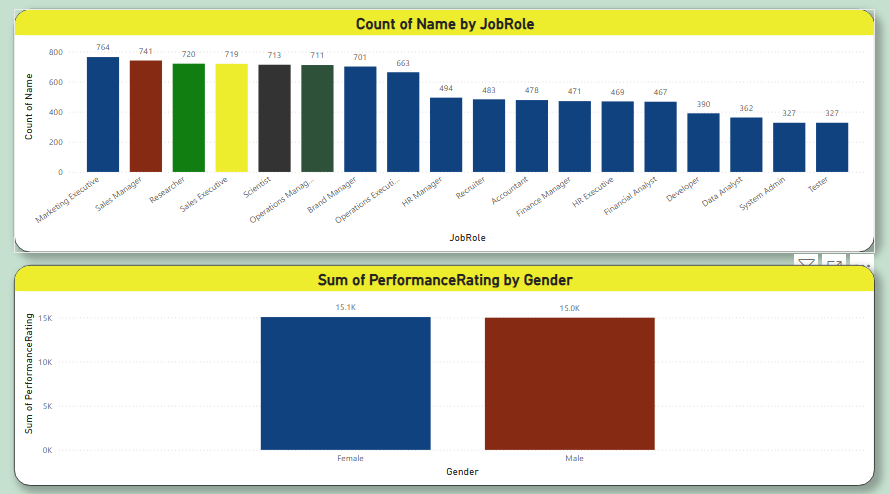

The dashboard page shown, as its layout file describes it:
{"tool":"powerbi","page":{"name":"Page 2","canvas":[1280,720],"ordinal":2},"visuals":[{"type":"columnChart","fields":{"Category":["Employee_Data.JobRole"],"Y":["CountNonNull(Employee_Data.Name)"]},"box":[30.4,24.6,1220.3,344.9],"z":0},{"type":"clusteredColumnChart","fields":{"Y":["Sum(Employee_Data.PerformanceRating)"],"Category":["Employee_Data.Gender"]},"box":[30.4,387,1220.3,313],"z":1000}]}

Visuals, with their boxes in screenshot pixels (x1, y1, x2, y2), scaled from the page's 1280x720 canvas onto the 890x494 screenshot:
columnChart - Employee_Data.JobRole x CountNonNull(Employee_Data.Name): <box>21,17,870,254</box>
clusteredColumnChart - Sum(Employee_Data.PerformanceRating) x Employee_Data.Gender: <box>21,266,870,480</box>
